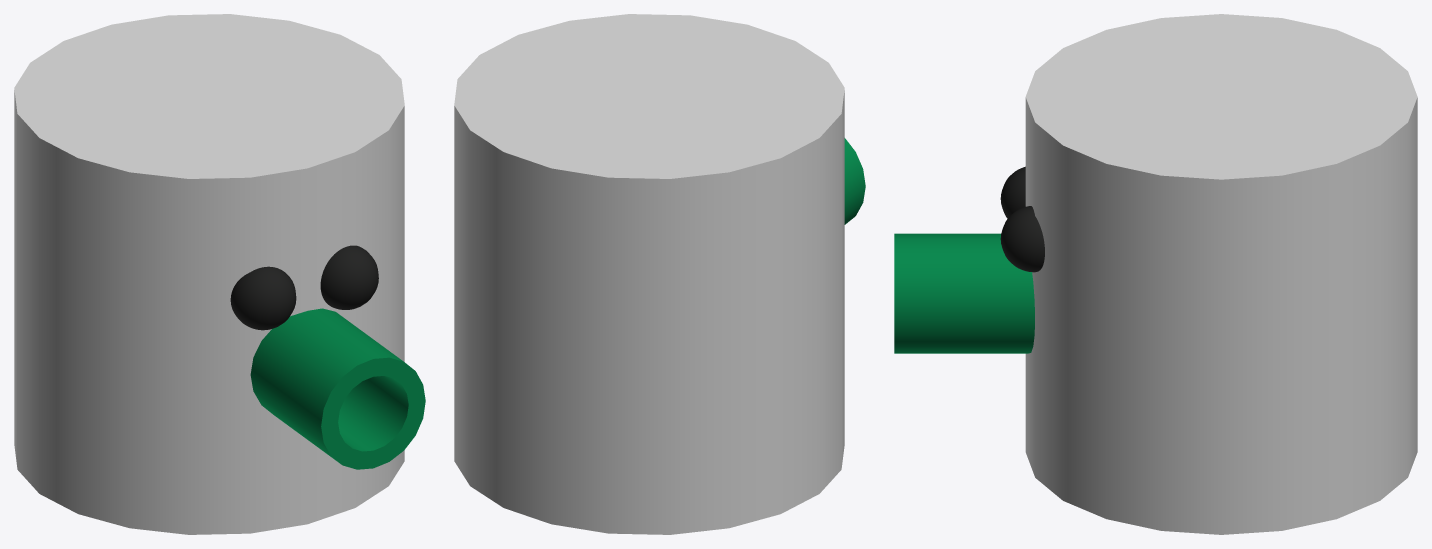
Rendered from shootEnemy.fbx.
3 renders of one model, left to right at view 1: azimuth 30°, elevation 25°; view 2: azimuth 150°, elevation 25°; view 3: azimuth 270°, elevation 25°, orthographic.
Visible parts, largest first — view 1: pCylinder2; view 2: pCylinder2; view 3: pCylinder2.
Part boxes in pixels (<box>): pCylinder2: <box>14,14,425,534</box>; pCylinder2: <box>454,14,865,534</box>; pCylinder2: <box>894,14,1417,534</box>.
Size of the model in its own units: 2 by 2 by 2.67.
